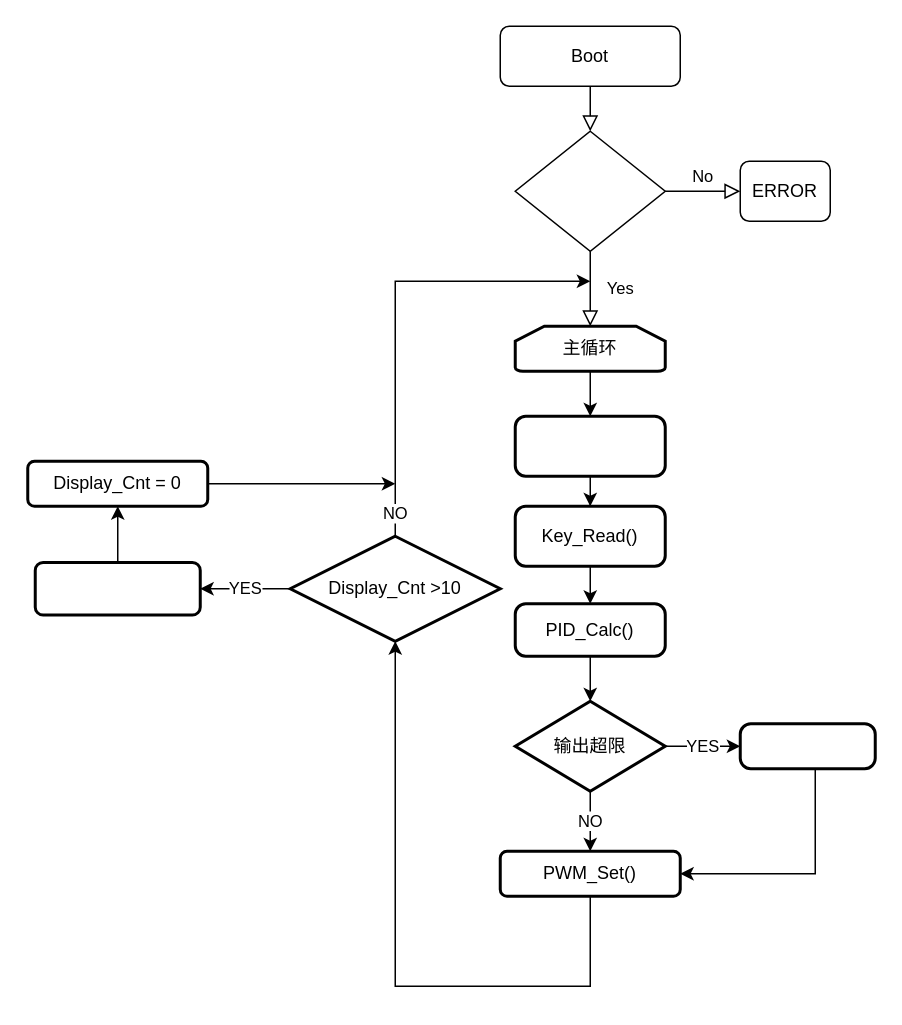
This 902x1025 diagram has some shape labels left out. Each missing label, with the centre of its shape:
ADC_Read(): point (589, 445)
OLED_Refresh(): point (117, 588)
OUTPUT_MAX: point (807, 746)
电压检测: point (589, 190)
